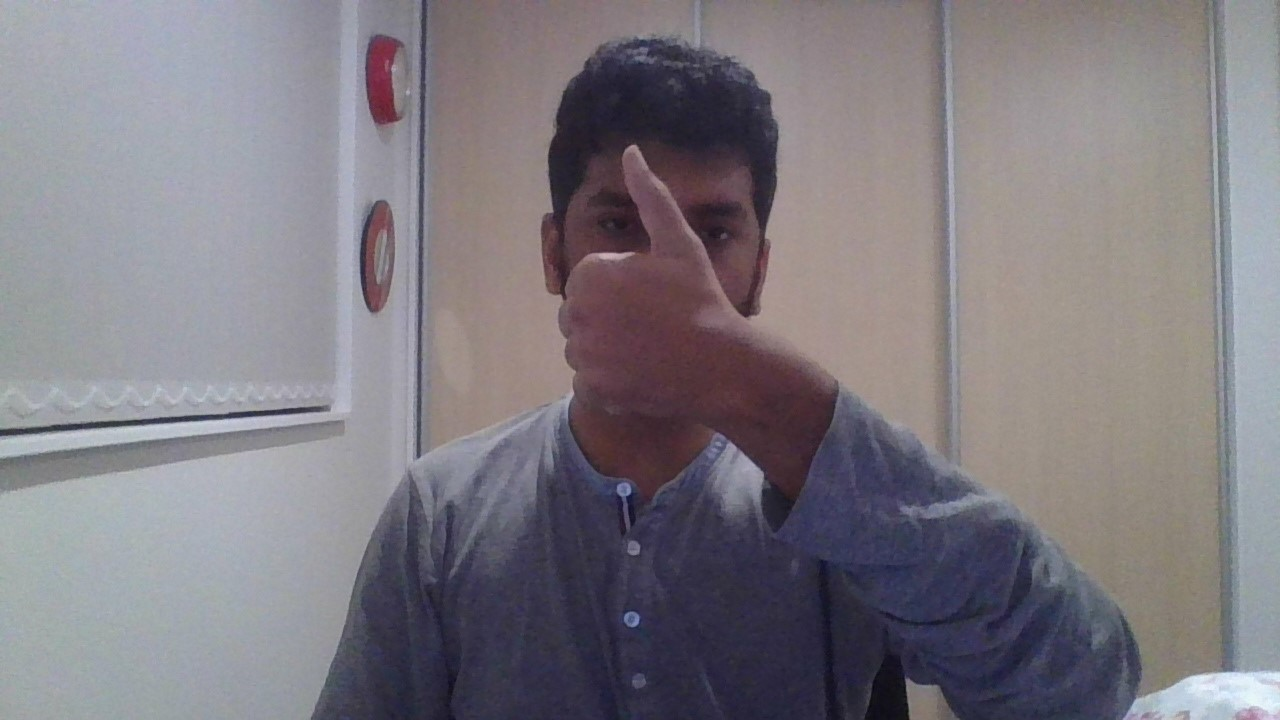good: (557, 145, 737, 419)
